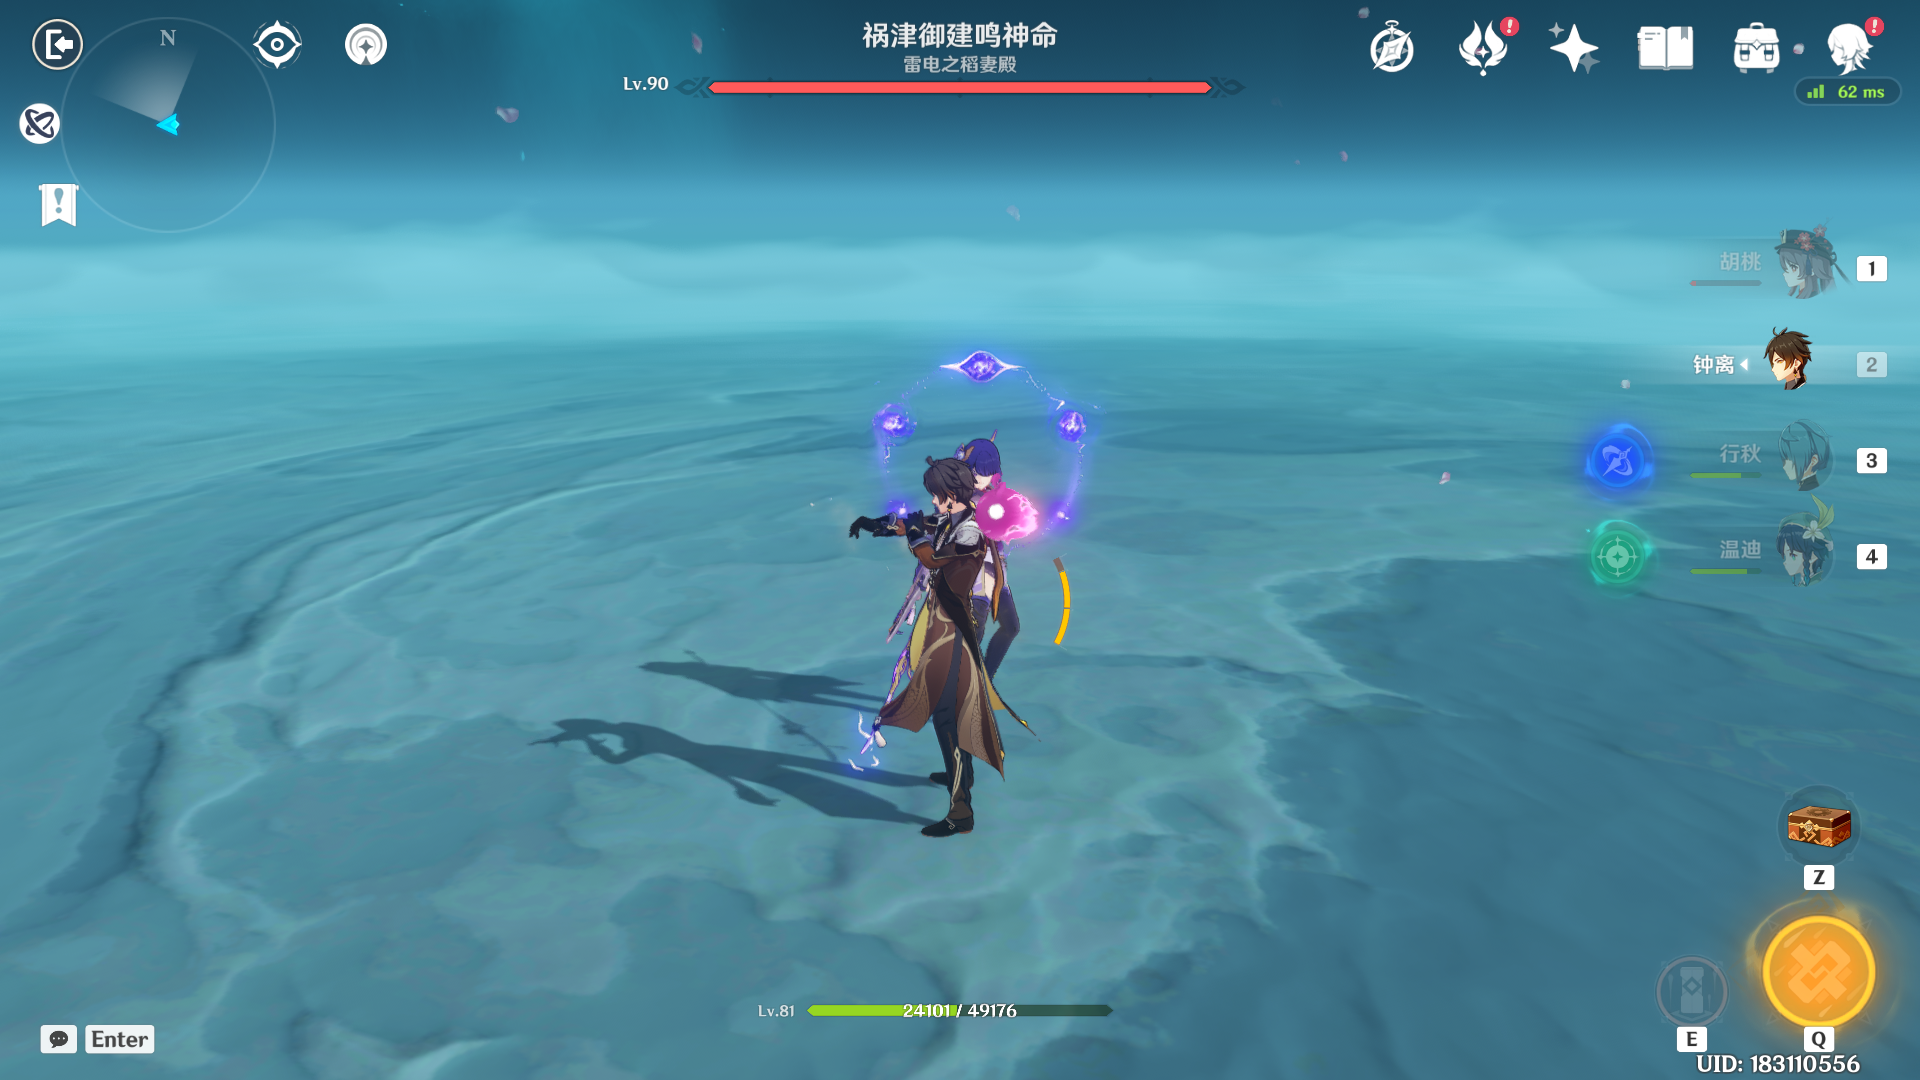character: (800, 405, 1073, 899)
